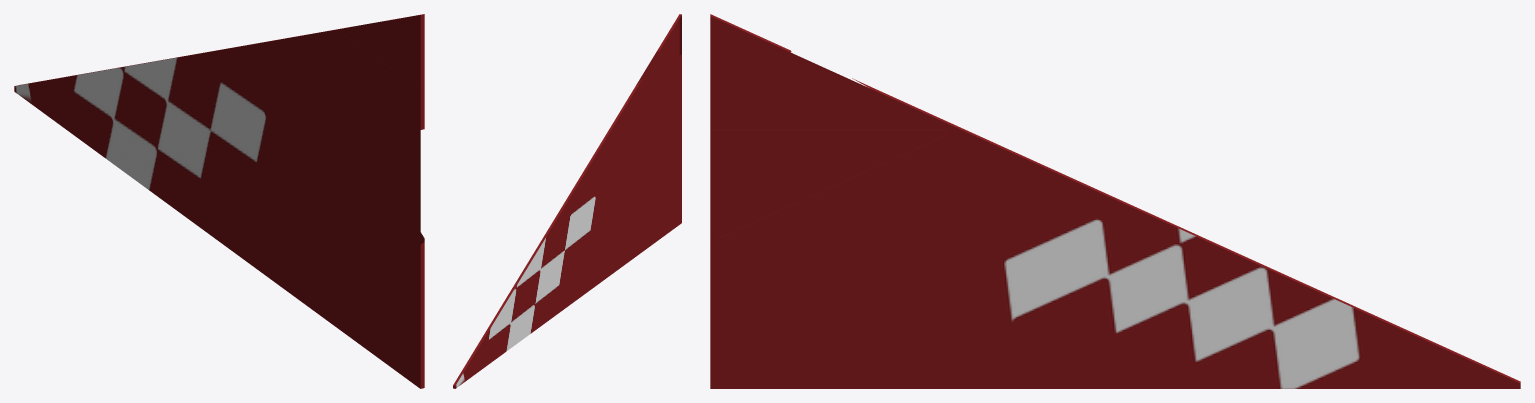
Rendered from defaultmgptriangle.glb.
The picture shows the model from 3 angles, left to right: view 1: azimuth 30°, elevation 25°; view 2: azimuth 150°, elevation 25°; view 3: azimuth 270°, elevation 25°; orthographic projection. The views are drawn at different scales.
Visible parts, largest first — view 1: DefaultMGPTriangle; view 2: DefaultMGPTriangle; view 3: DefaultMGPTriangle.
Part boxes in pixels (x1,y1,x2,y2): DefaultMGPTriangle: (14, 14, 424, 388); DefaultMGPTriangle: (453, 14, 681, 388); DefaultMGPTriangle: (710, 14, 1520, 388).
Bounding box in the file's own units: 0.0302 × 2.58 × 5.07.
1 material, 1 textured.
